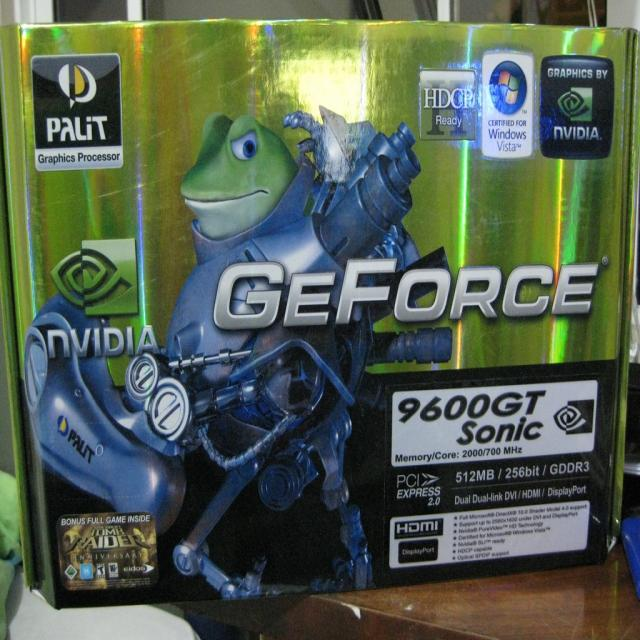nvidia: (52, 239, 140, 318), (557, 88, 593, 124)
